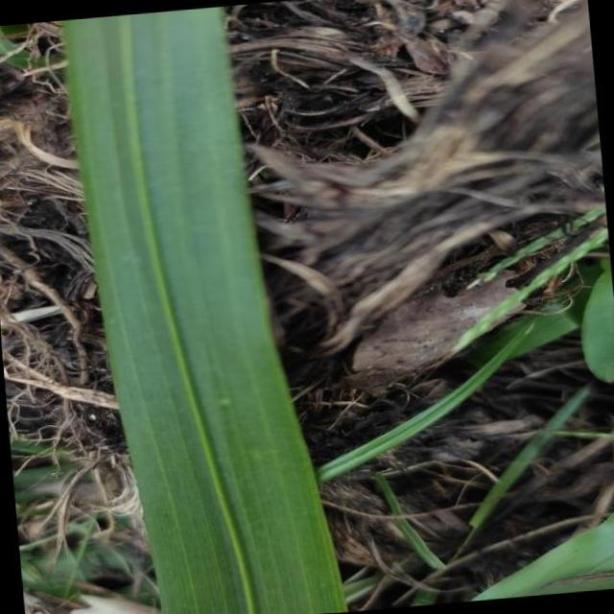Healthy: (62, 0, 348, 609)
